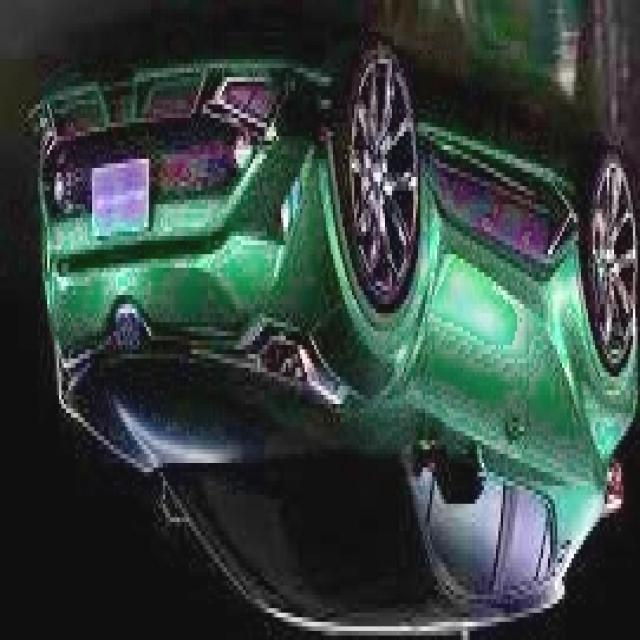green: (35, 41, 638, 640)
